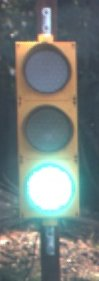Green: (9, 29, 83, 230)
